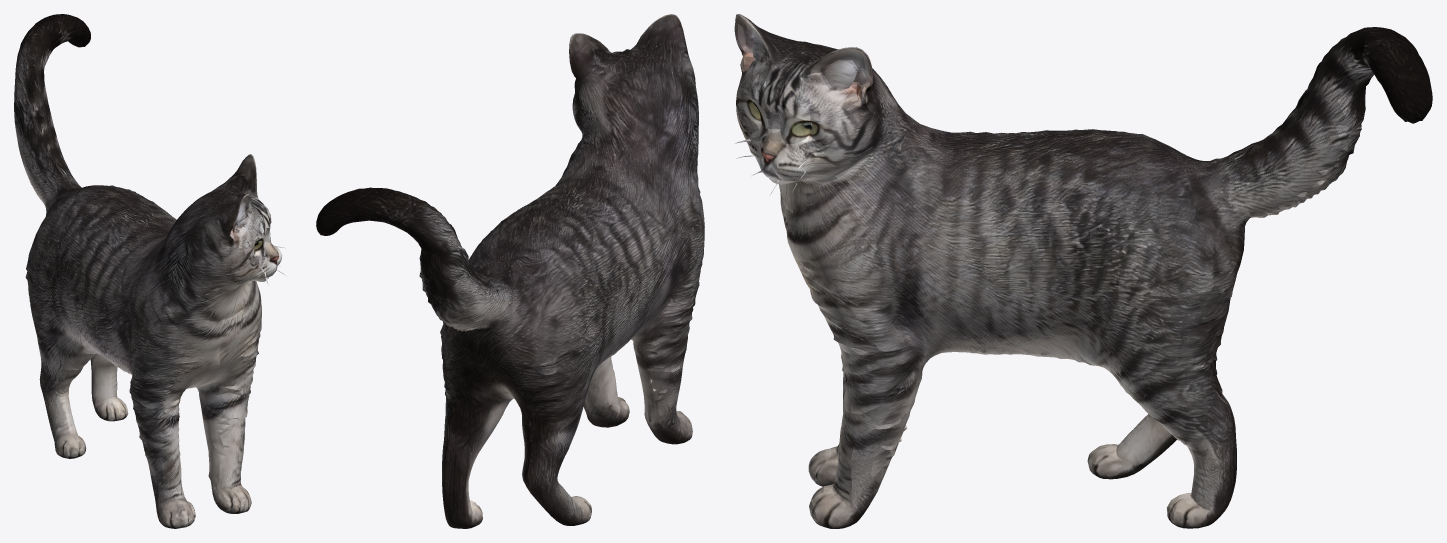
File: rodin-detail.glb
3 renders of one model, left to right at view 1: azimuth 30°, elevation 25°; view 2: azimuth 150°, elevation 25°; view 3: azimuth 270°, elevation 25°, orthographic. The views are drawn at different scales.
Visible parts, largest first — view 1: model; view 2: model; view 3: model.
Part boxes in pixels (box(x1,y1,x2,y2)): model: box(14, 14, 286, 528); model: box(316, 14, 704, 528); model: box(734, 14, 1432, 528).
Bounding box in the file's own units: 0.6291 × 1.43 × 1.84.
1 material, 1 textured.
